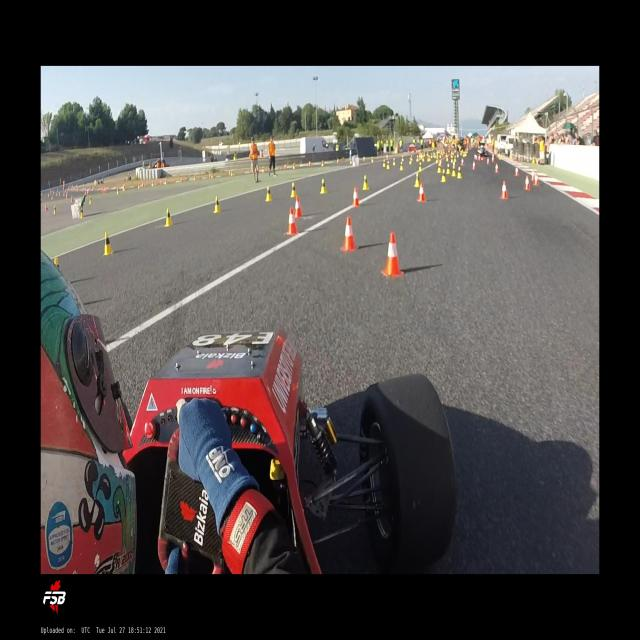orange_cone: (382, 232, 404, 278), (340, 216, 358, 252), (286, 207, 298, 236), (294, 195, 303, 218), (351, 187, 361, 207), (417, 182, 426, 202), (499, 181, 508, 200), (524, 177, 531, 191), (534, 173, 540, 186), (514, 166, 520, 177), (494, 162, 499, 174), (472, 160, 476, 171), (461, 158, 465, 166), (491, 154, 495, 162), (486, 157, 490, 165), (45, 204, 48, 211), (308, 160, 310, 168), (284, 163, 286, 170)
yellow_cone: (103, 231, 114, 256), (165, 208, 174, 227), (214, 196, 222, 213), (265, 185, 273, 202), (290, 182, 298, 198), (362, 174, 370, 190), (320, 178, 328, 193), (414, 172, 420, 187), (440, 169, 446, 183), (54, 257, 59, 269), (436, 163, 442, 173), (457, 166, 462, 178), (446, 163, 450, 175), (452, 165, 456, 177), (392, 157, 397, 166), (80, 207, 84, 218), (386, 160, 390, 170), (400, 160, 404, 170), (418, 162, 422, 172), (532, 155, 536, 164), (409, 156, 413, 164), (53, 206, 57, 214), (383, 159, 386, 168), (292, 163, 296, 169), (89, 197, 92, 204), (321, 160, 324, 166), (117, 188, 119, 194)
